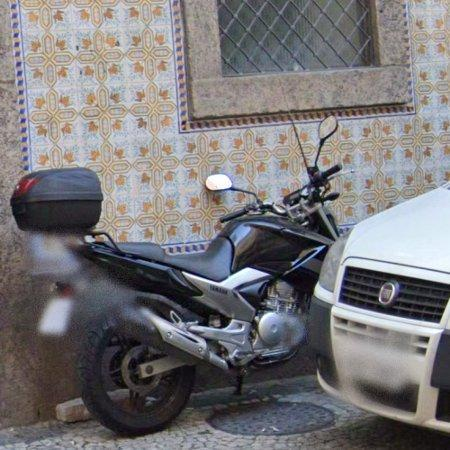motorcycles: (10, 117, 343, 436)
